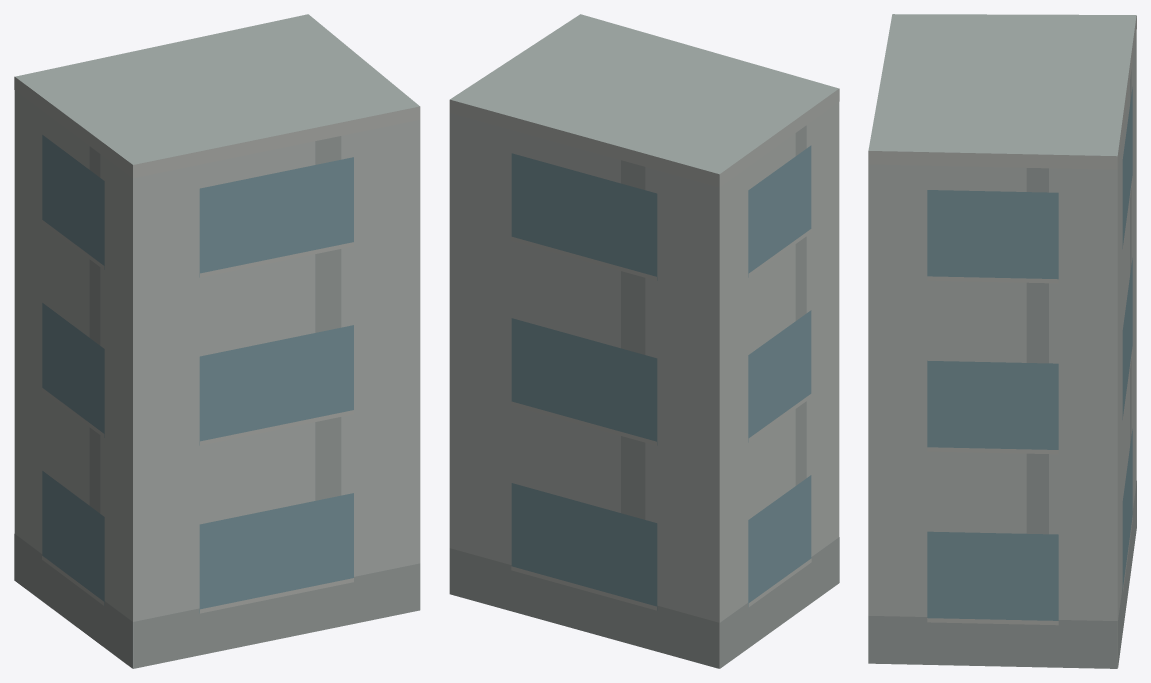
Rendered from survey-upis-32538375.glb.
3 renders of one model, left to right at view 1: azimuth 30°, elevation 25°; view 2: azimuth 150°, elevation 25°; view 3: azimuth 270°, elevation 25°, orthographic. The views are drawn at different scales.
Visible parts, largest first — view 1: survey-upis-32538375.tmp; view 2: survey-upis-32538375.tmp; view 3: survey-upis-32538375.tmp.
Boxes of the visible parts, x1=… form: survey-upis-32538375.tmp: x1=14, y1=14, x2=420, y2=668; survey-upis-32538375.tmp: x1=449, y1=14, x2=839, y2=668; survey-upis-32538375.tmp: x1=868, y1=14, x2=1136, y2=668.
Size of the model in its own units: 5.45 by 9.15 by 4.35.
